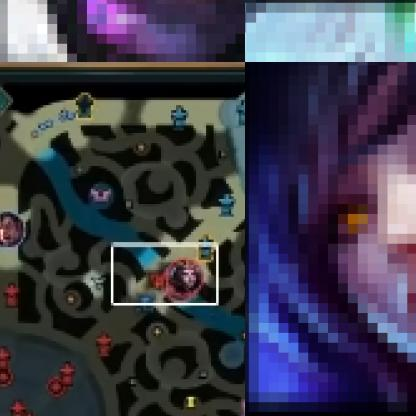Ahri: (245, 62, 415, 415)
Darius: (0, 211, 29, 248)
Dr. Mundo: (0, 0, 244, 61)
Leblanc: (166, 259, 205, 295)
Viego: (245, 0, 415, 61)
